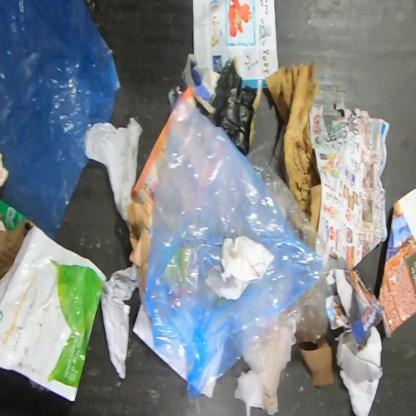cardboard: (265, 61, 321, 232), (0, 199, 37, 280), (125, 198, 152, 304), (297, 335, 334, 387)
rigid_plastic: (211, 60, 257, 155)
soft_plastic: (143, 90, 323, 398), (0, 0, 121, 240), (0, 227, 108, 401), (245, 149, 330, 273), (242, 272, 328, 373)
